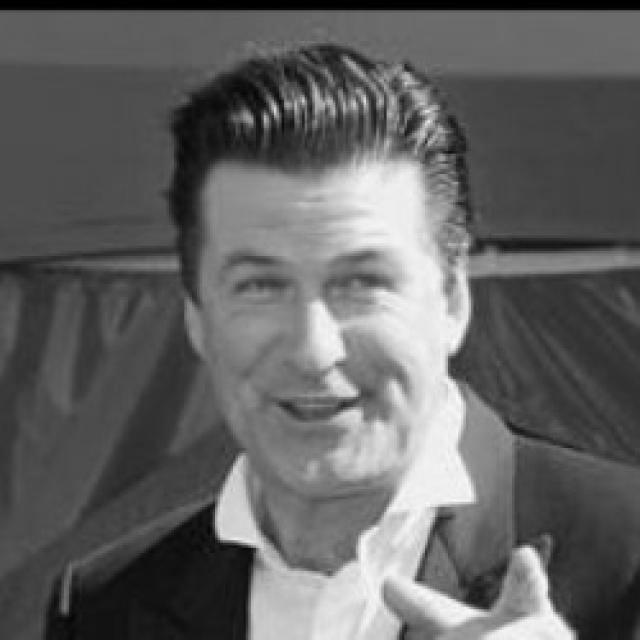real: (172, 132, 480, 500), (205, 255, 407, 325)
